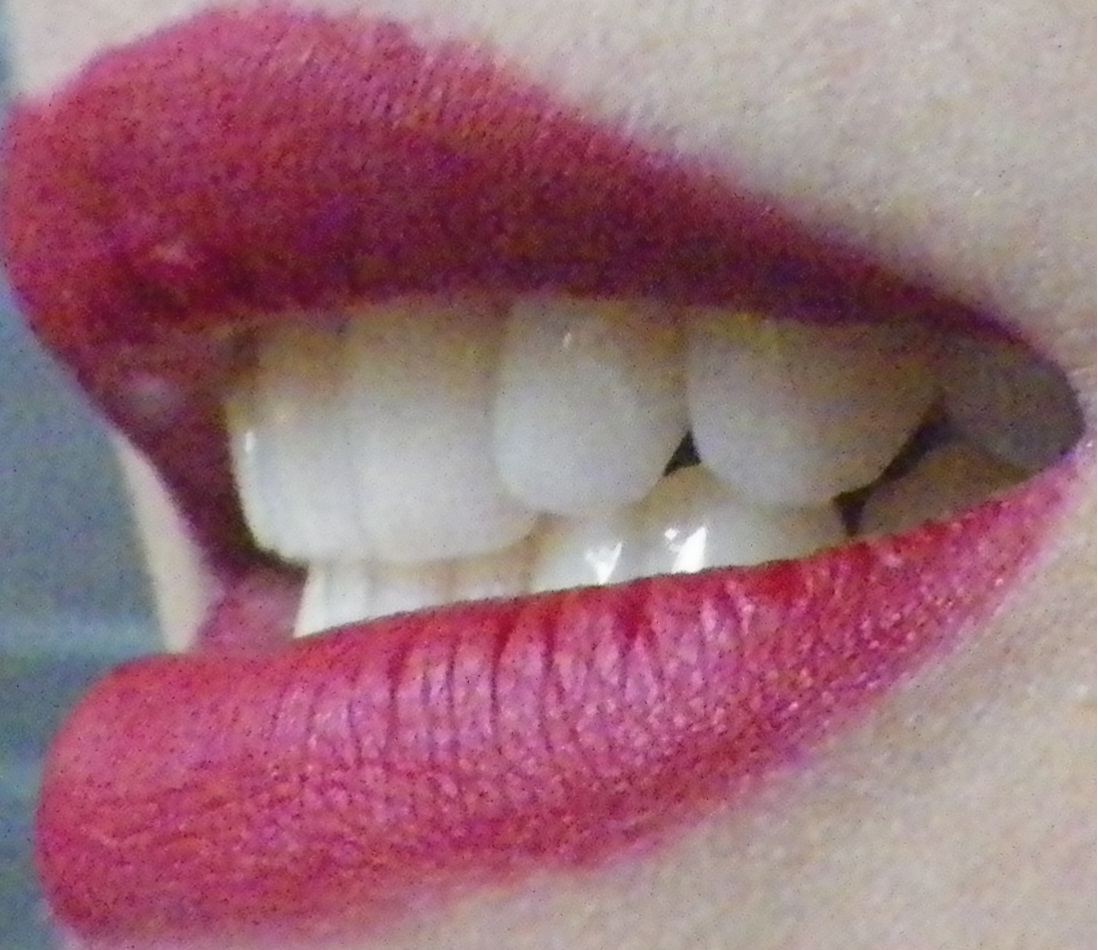boca: (215, 269, 1025, 637)
